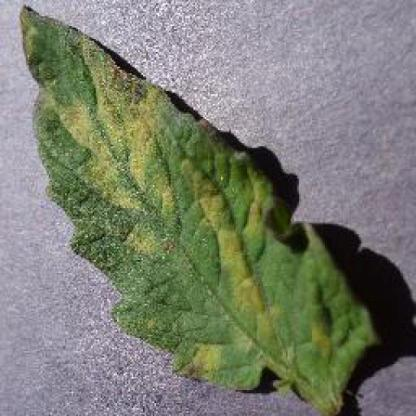Tomato_Leaf_Mold: (12, 6, 373, 412)
